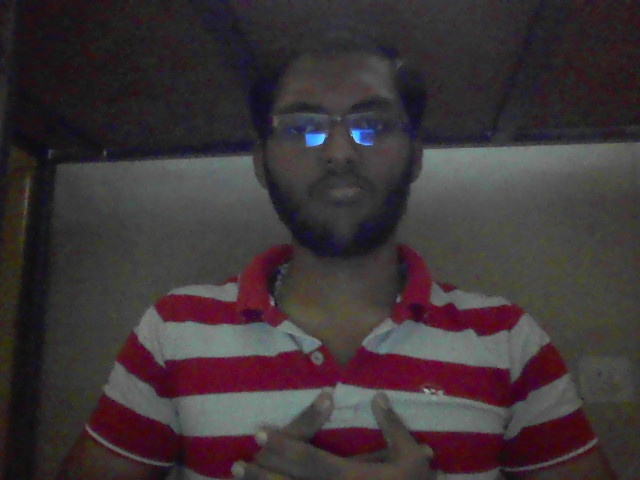Yes_Hungry: (202, 370, 482, 480)
